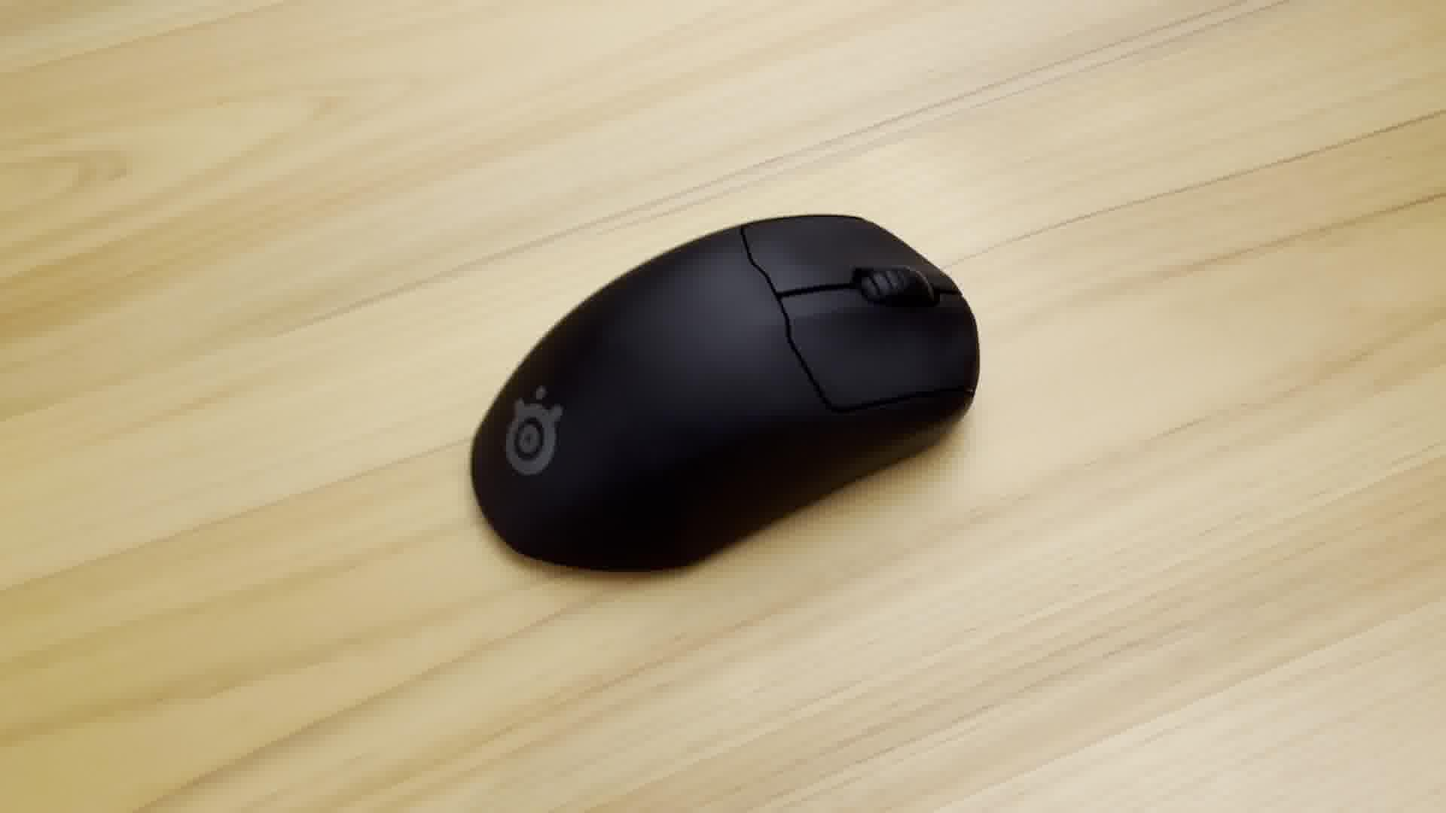steel-series: (454, 203, 993, 585)
